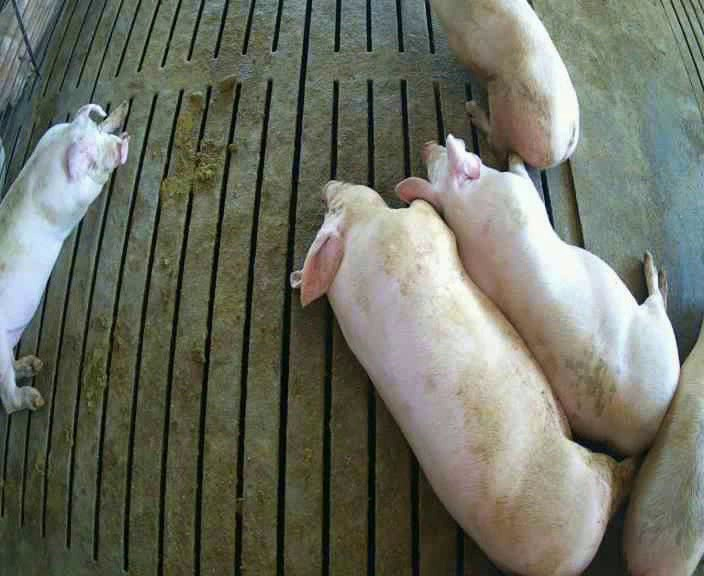pig: (290, 182, 634, 573), (397, 136, 679, 453), (0, 104, 126, 413), (433, 2, 578, 167), (624, 321, 703, 574)
